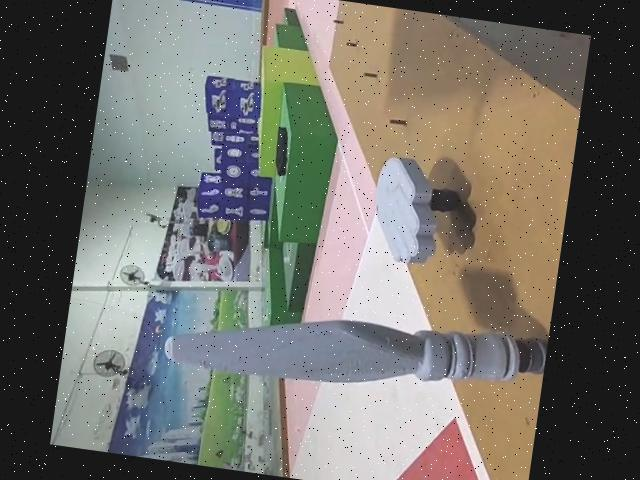Hand: (364, 156, 469, 271)
Sph: (161, 286, 549, 419)
